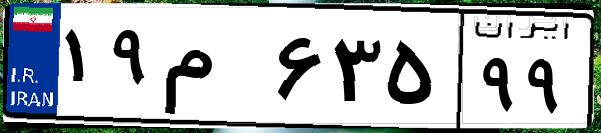1: (57, 26, 110, 100)
3: (330, 28, 385, 110)
5: (385, 28, 445, 110)
6: (270, 28, 330, 110)
9: (475, 38, 525, 113), (525, 38, 570, 115), (110, 28, 158, 98)
م: (158, 20, 270, 120)
